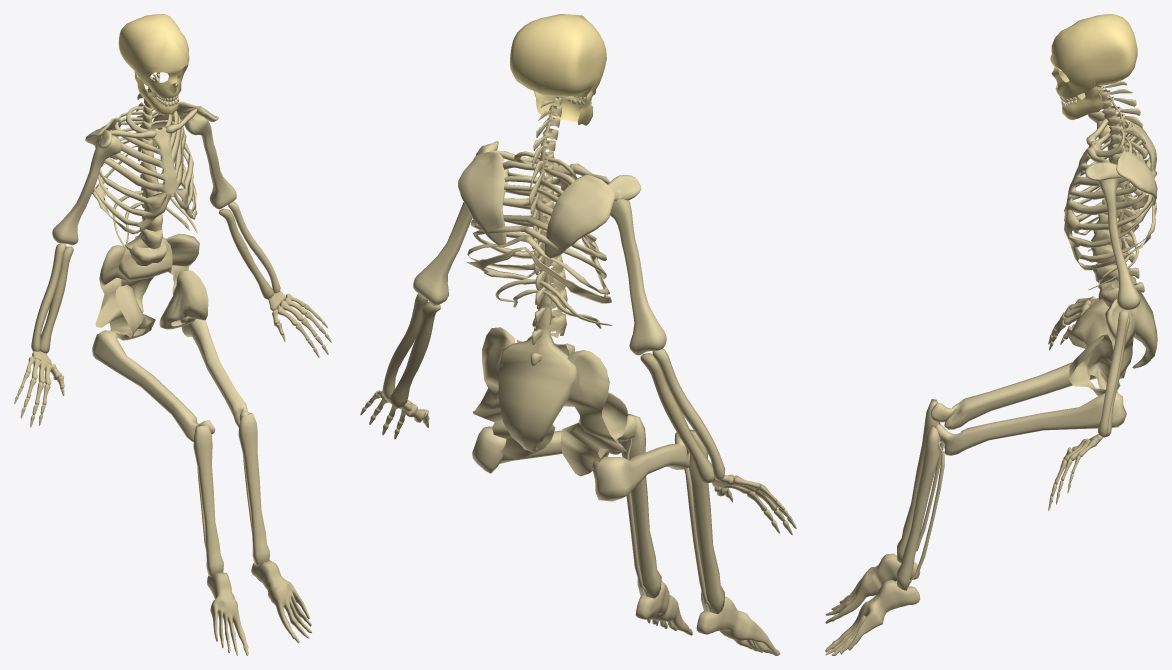
The model's file is Skeleton.fbx.
3 views of the same model, side by side, from view 1: azimuth 30°, elevation 25°; view 2: azimuth 150°, elevation 25°; view 3: azimuth 270°, elevation 25° (orthographic). The views are drawn at different scales.
Visible parts, largest first — view 1: Rib Cage, Ilium, Femur, Skull, Tibia, Feet, Humerus, Cube, Spine2, Ulna, Radius, Clavicle And Shoulder (+1 smaller); view 2: Ilium, Rib Cage, Clavicle And Shoulder, Skull, spine, Tibia, Humerus, Femur, Spine2, Feet, Ulna, Radius (+1 smaller); view 3: Femur, Skull, Rib Cage, Tibia, Feet, Spine2, Ilium, Clavicle And Shoulder, Humerus, Cube, spine, Radius.
Boxes of the visible parts, x1,y1,x2,y2 form: Rib Cage: (92,106,197,250); Ilium: (95,233,208,340); Femur: (92,316,249,441); Skull: (118,14,189,115); Tibia: (193,413,269,576); Feet: (207,560,311,655); Humerus: (52,113,236,245); Cube: (14,291,331,427); Spine2: (125,72,167,265); Ulna: (40,208,274,353); Radius: (31,202,280,351); Clavicle And Shoulder: (85,101,218,159); Ilium: (473,327,627,476); Rib Cage: (466,151,612,328); Clavicle And Shoulder: (458,141,641,258); Skull: (510,14,606,125); spine: (498,96,576,452); Tibia: (620,413,724,614); Humerus: (413,168,666,355); Femur: (472,415,689,501); Spine2: (516,97,574,366); Feet: (635,581,780,655); Ulna: (389,301,714,483); Radius: (382,293,725,480); Femur: (930,362,1126,455); Skull: (1050,14,1137,119); Rib Cage: (1064,119,1157,290); Tibia: (897,399,944,590); Feet: (825,553,920,655); Spine2: (1091,81,1147,307); Ilium: (1069,299,1135,395); Clavicle And Shoulder: (1085,111,1156,205); Humerus: (1097,121,1140,309); Cube: (1048,296,1102,510); spine: (1102,85,1157,368); Radius: (1098,290,1128,437).
Bounding box in the file's own units: 832 × 1375 × 668.
